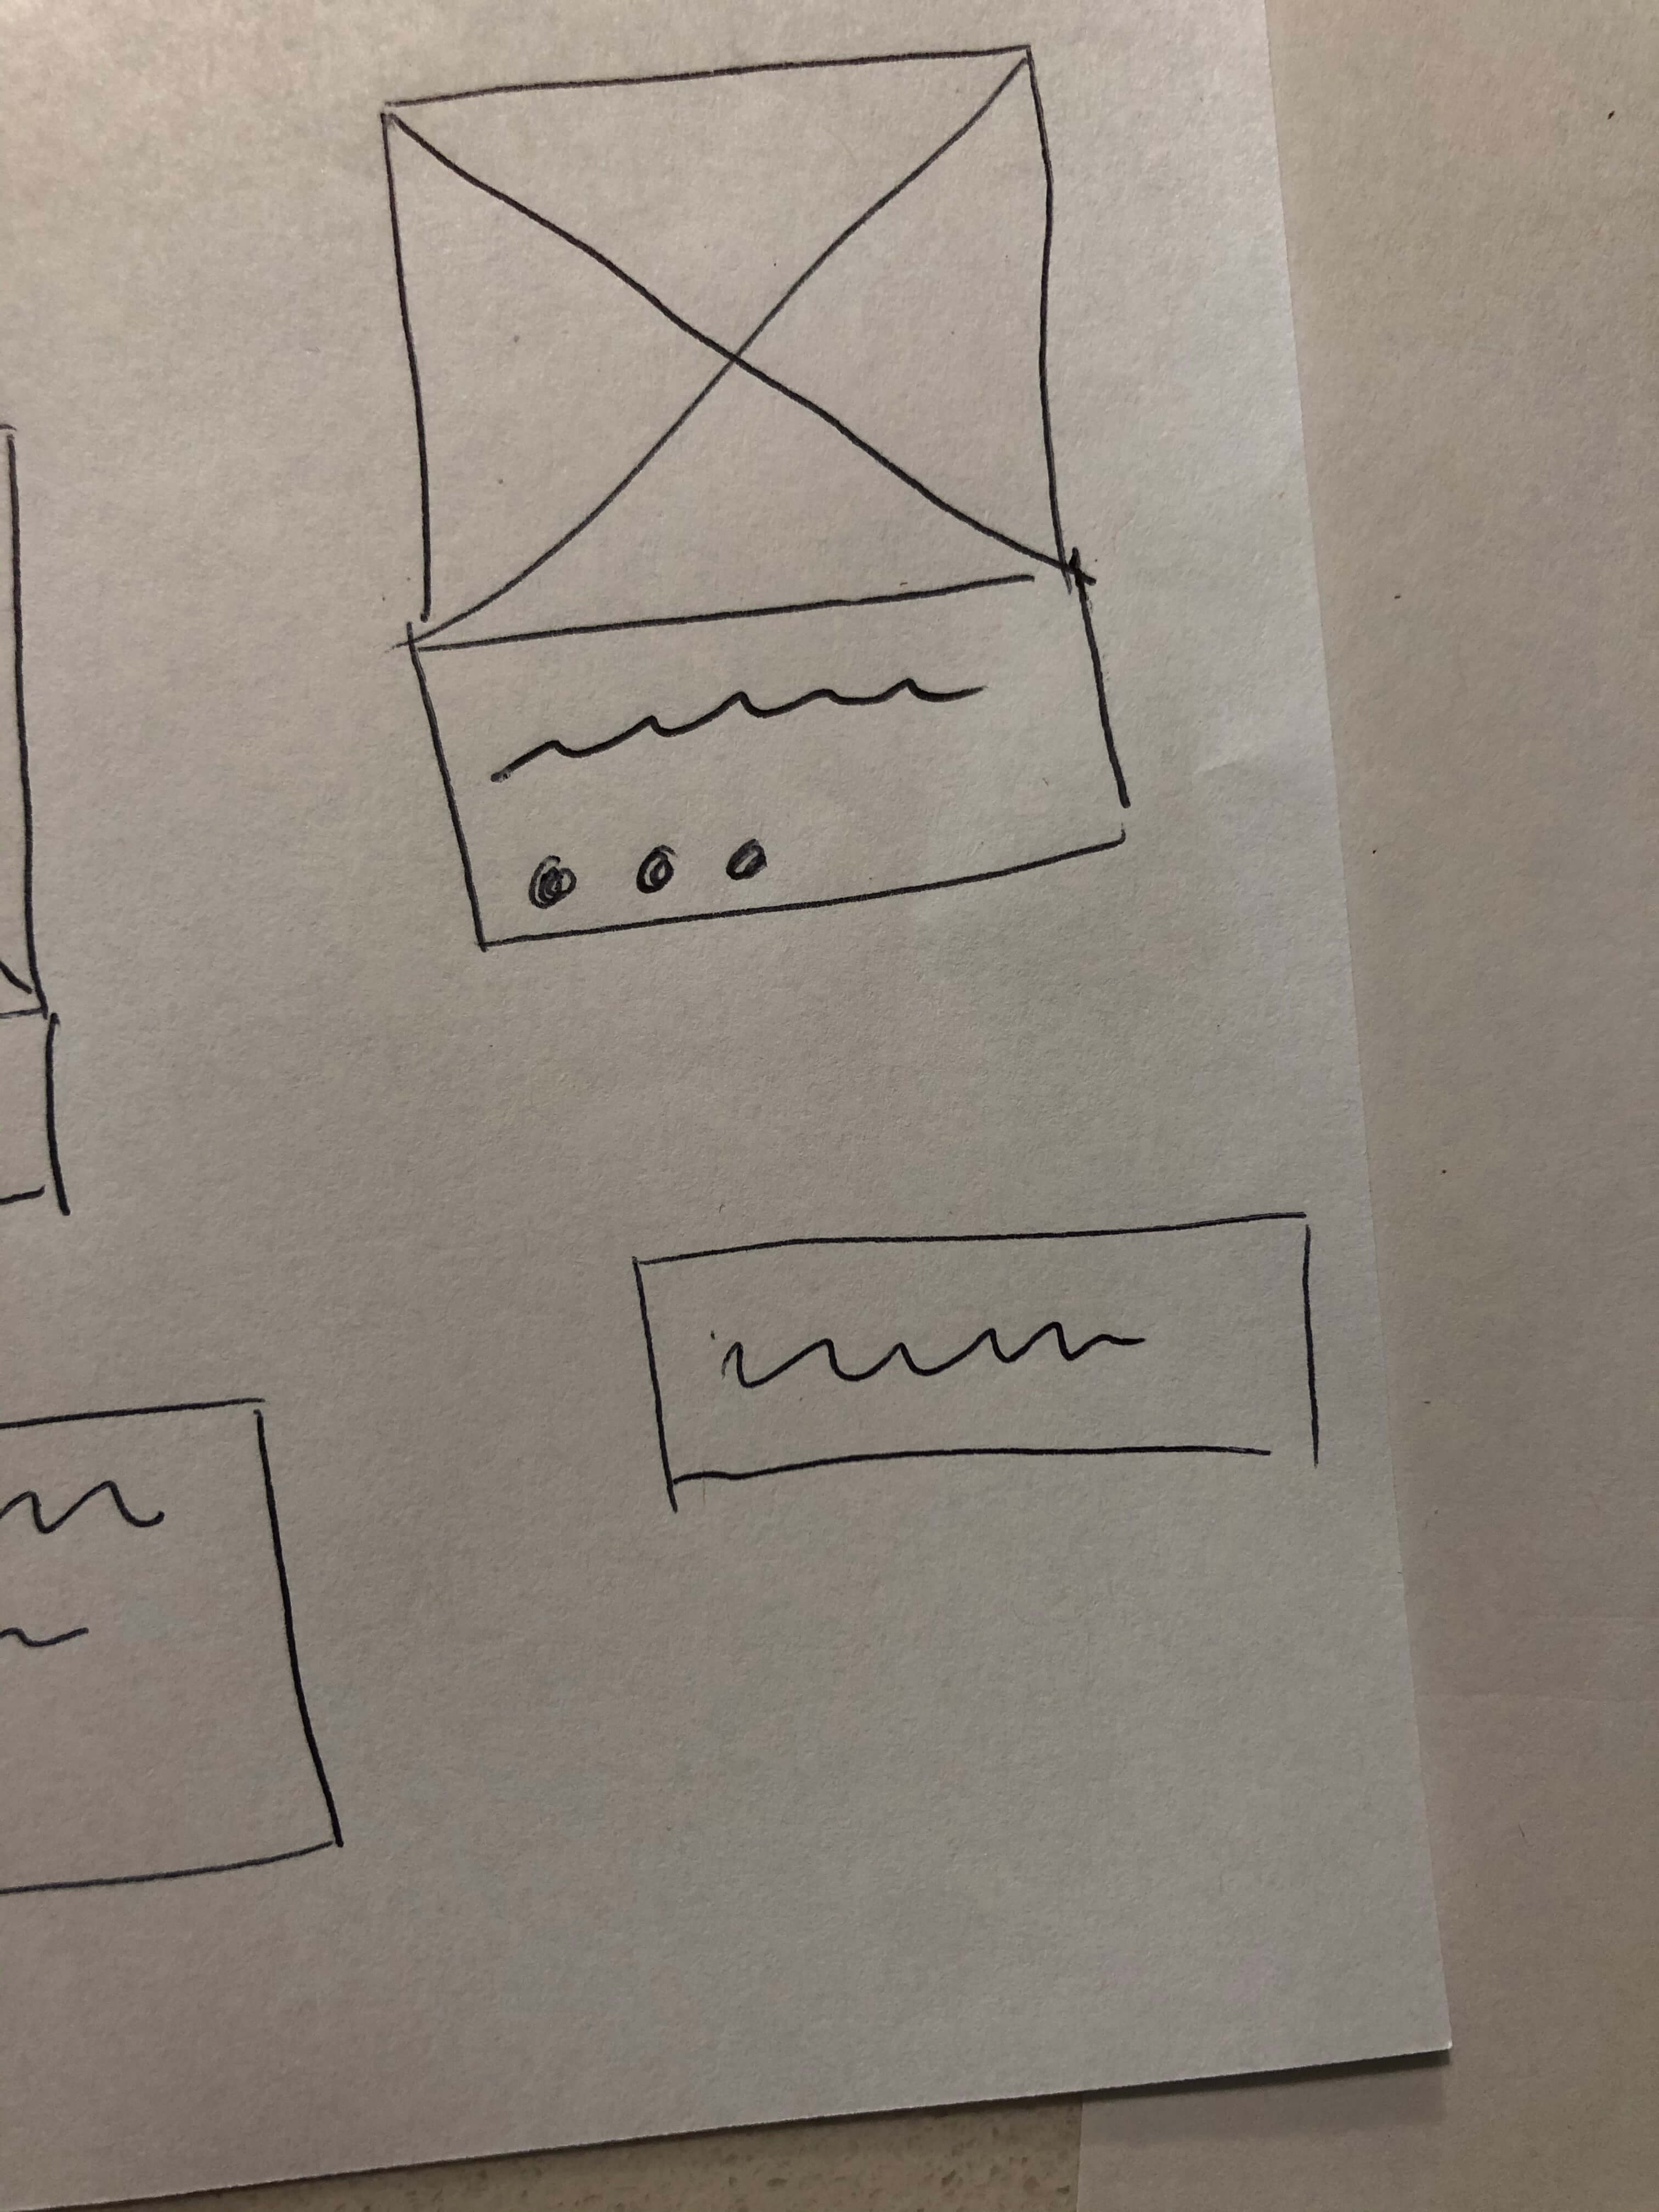card: (368, 26, 1155, 986)
input: (608, 1190, 1363, 1529)
